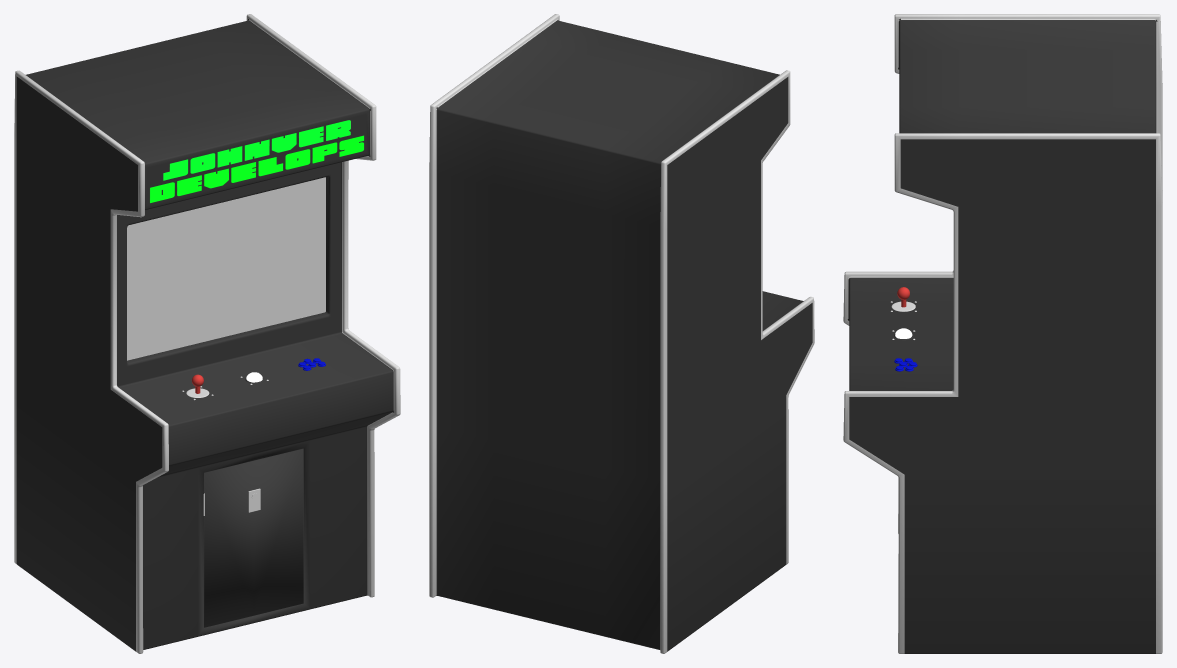
Rendered from arcade-machine.glb.
The picture shows the model from 3 angles, left to right: view 1: azimuth 30°, elevation 25°; view 2: azimuth 150°, elevation 25°; view 3: azimuth 270°, elevation 25°; orthographic projection. The views are drawn at different scales.
Visible parts, largest first — view 1: arcade_machine, screen, arcade_machine.003; view 2: arcade_machine; view 3: arcade_machine.
Boxes of the visible parts, left/top/right/bottom form: arcade_machine: left=14, top=14, right=400, bottom=653; screen: left=127, top=177, right=325, bottom=360; arcade_machine.003: left=150, top=120, right=363, bottom=202; arcade_machine: left=429, top=14, right=814, bottom=653; arcade_machine: left=843, top=14, right=1162, bottom=653.
Size of the model in its own units: 0.9443 by 1.88 by 1.05.
6 materials, 1 textured.
